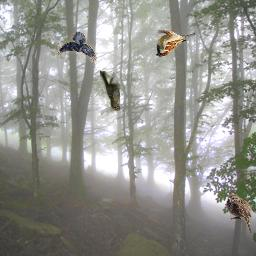Crow: (57, 32, 97, 62)
Sparrow: (156, 30, 196, 57), (226, 194, 252, 234), (100, 71, 120, 111)
